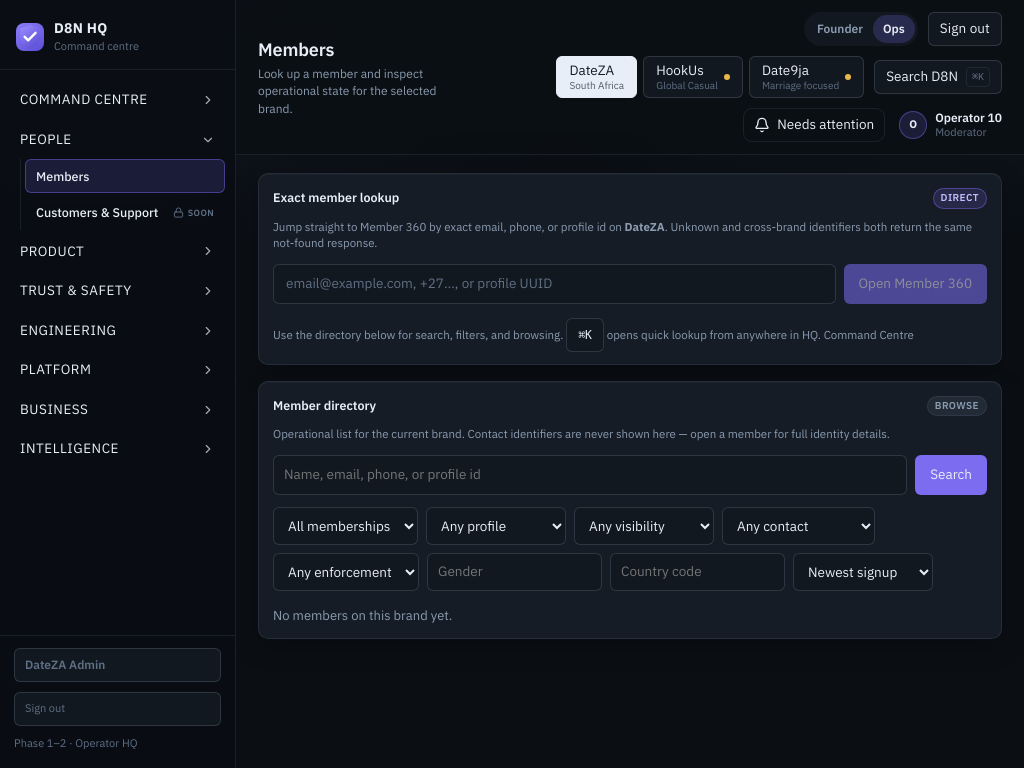
Test case: D8N HQ Phase 1 integration › shows unknown lookup as not found without enumeration claims
Type "missing@example.com" into the field named "exact member lookup" at (554, 284), box [273, 264, 836, 304]
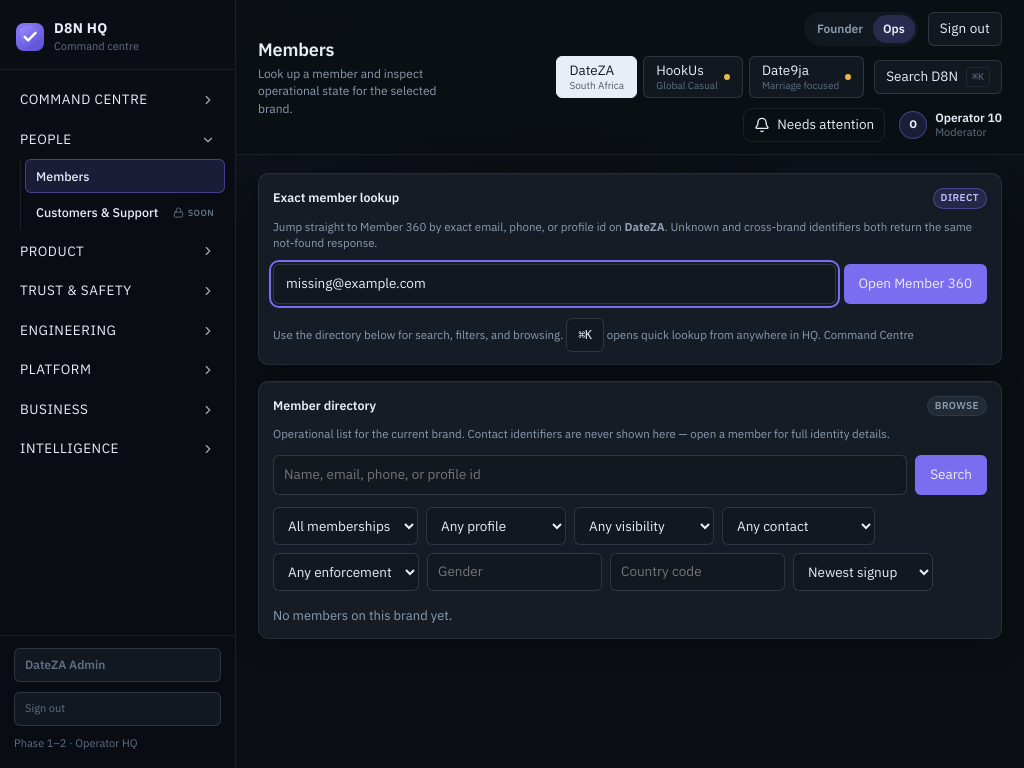
Click the button "Open Member 360" at (915, 284), box [844, 264, 987, 304]
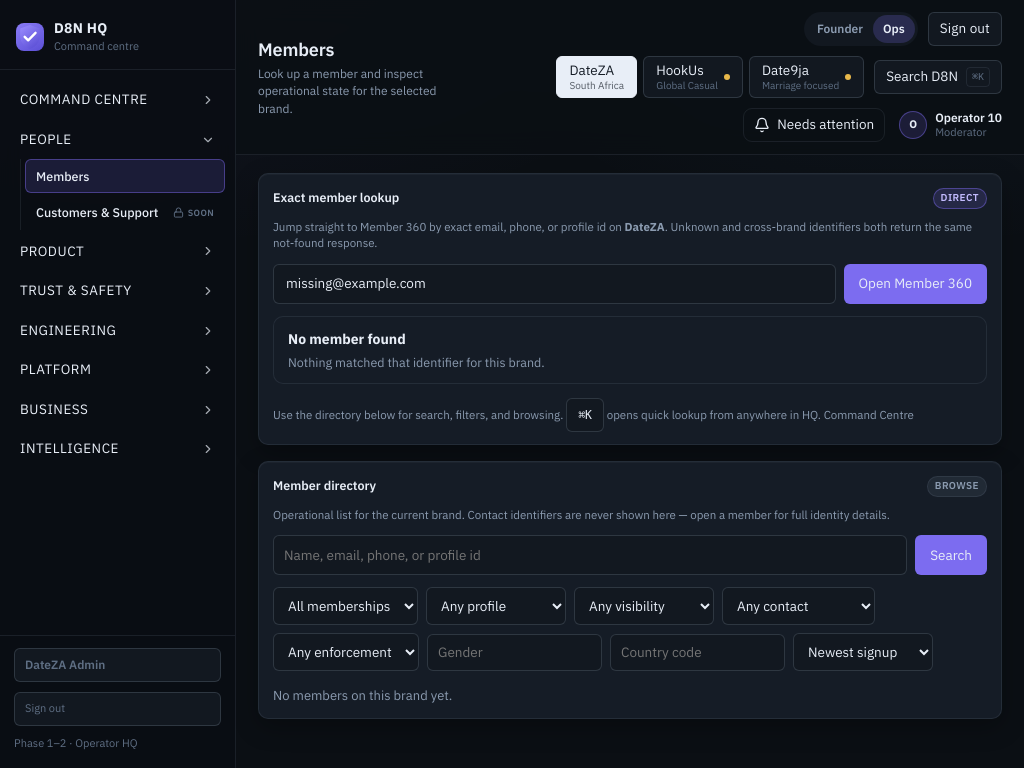
Expected: the heading "No member found" is shown, [288, 330, 406, 348]
Expected: the text "Nothing matched that identifier for this brand." is shown, [288, 354, 545, 370]
